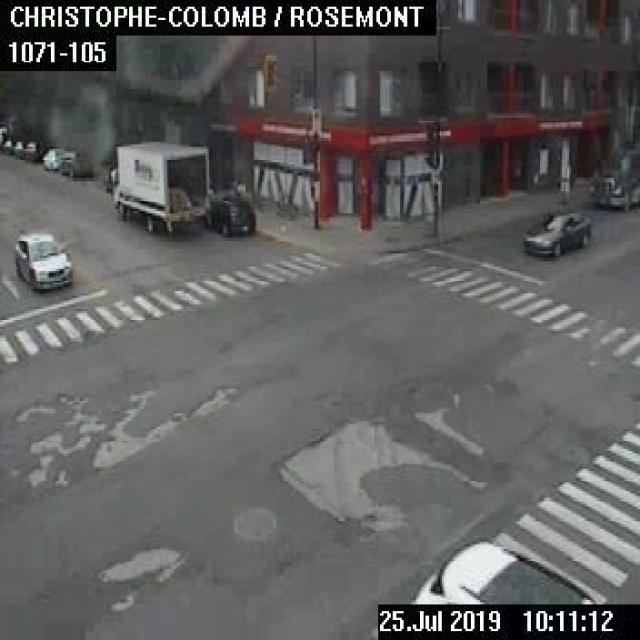vehicle: (406, 536, 598, 602), (104, 141, 208, 233), (586, 144, 638, 210), (14, 232, 71, 291), (522, 207, 589, 256), (208, 190, 255, 233), (58, 151, 91, 175), (42, 147, 66, 169), (23, 140, 49, 160), (12, 140, 23, 157), (1, 137, 12, 153)
